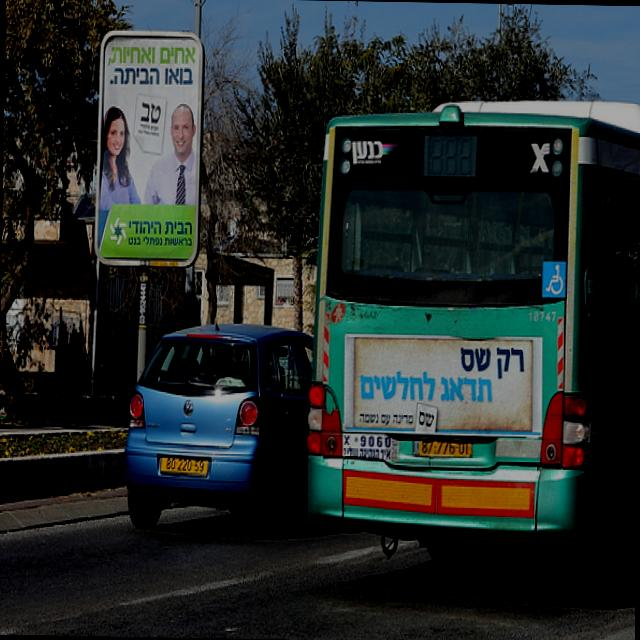Vehicle: (304, 93, 640, 570), (124, 321, 313, 534)
